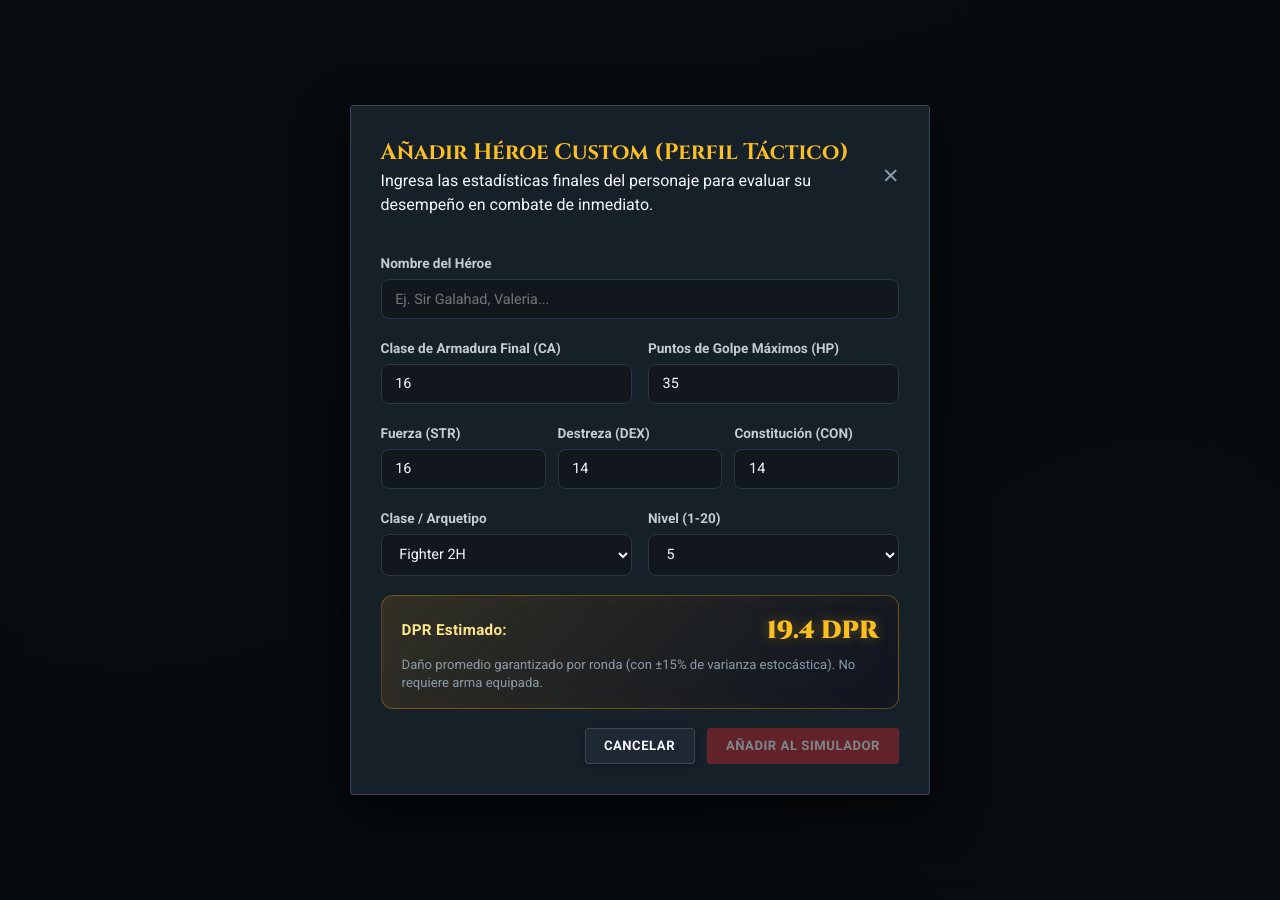
Test: CustomHeroModal Component › updates live Expected DPR when selecting a different archetype or level
Select "1" in the dropdown with id "hero-level-select" at (774, 555), box [648, 534, 899, 576]
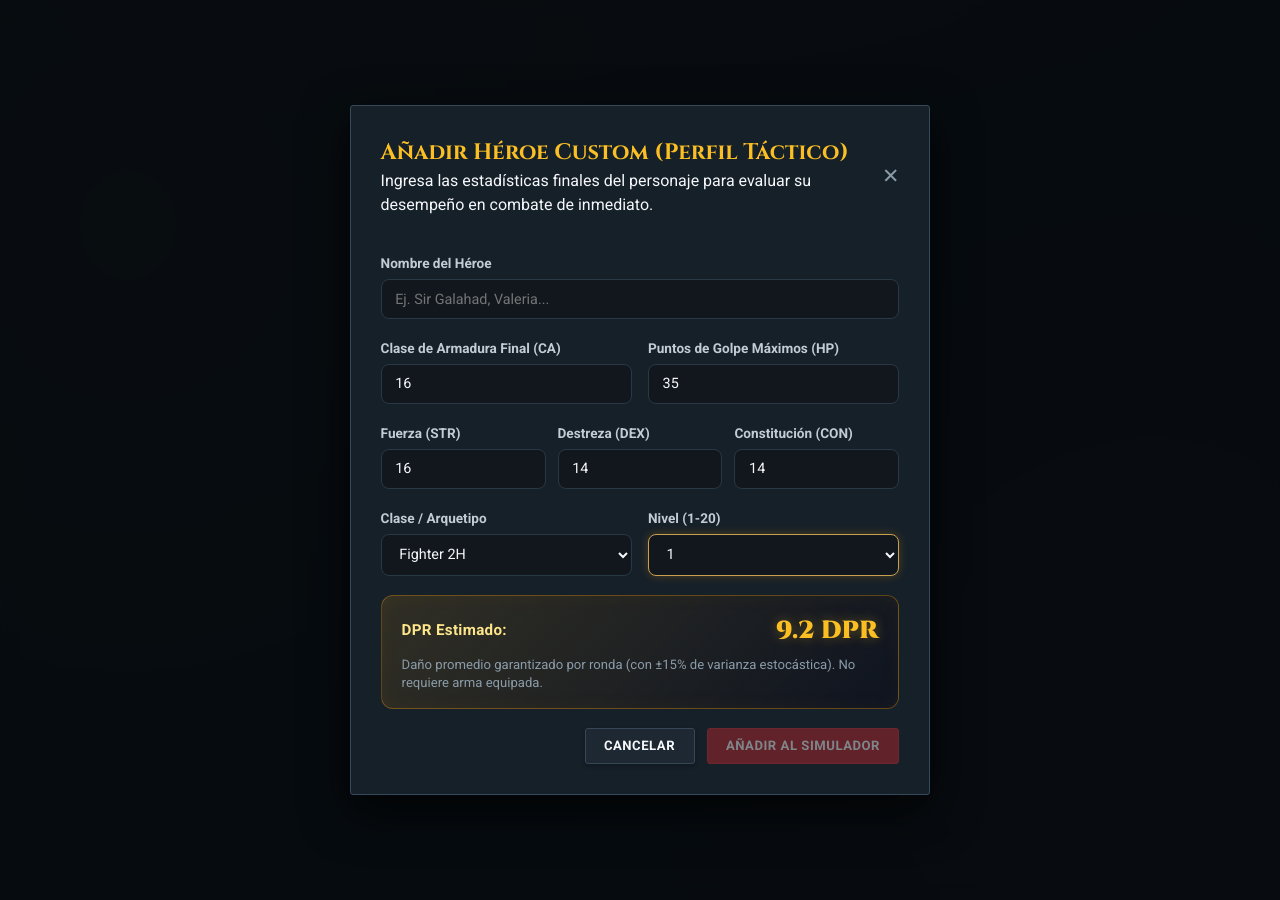
Check: the text "9.2 DPR" is shown, box [776, 612, 878, 649]
Select "Ranger Ranged" in the dropdown with id "hero-archetype-select" at (506, 555), box [381, 534, 632, 576]
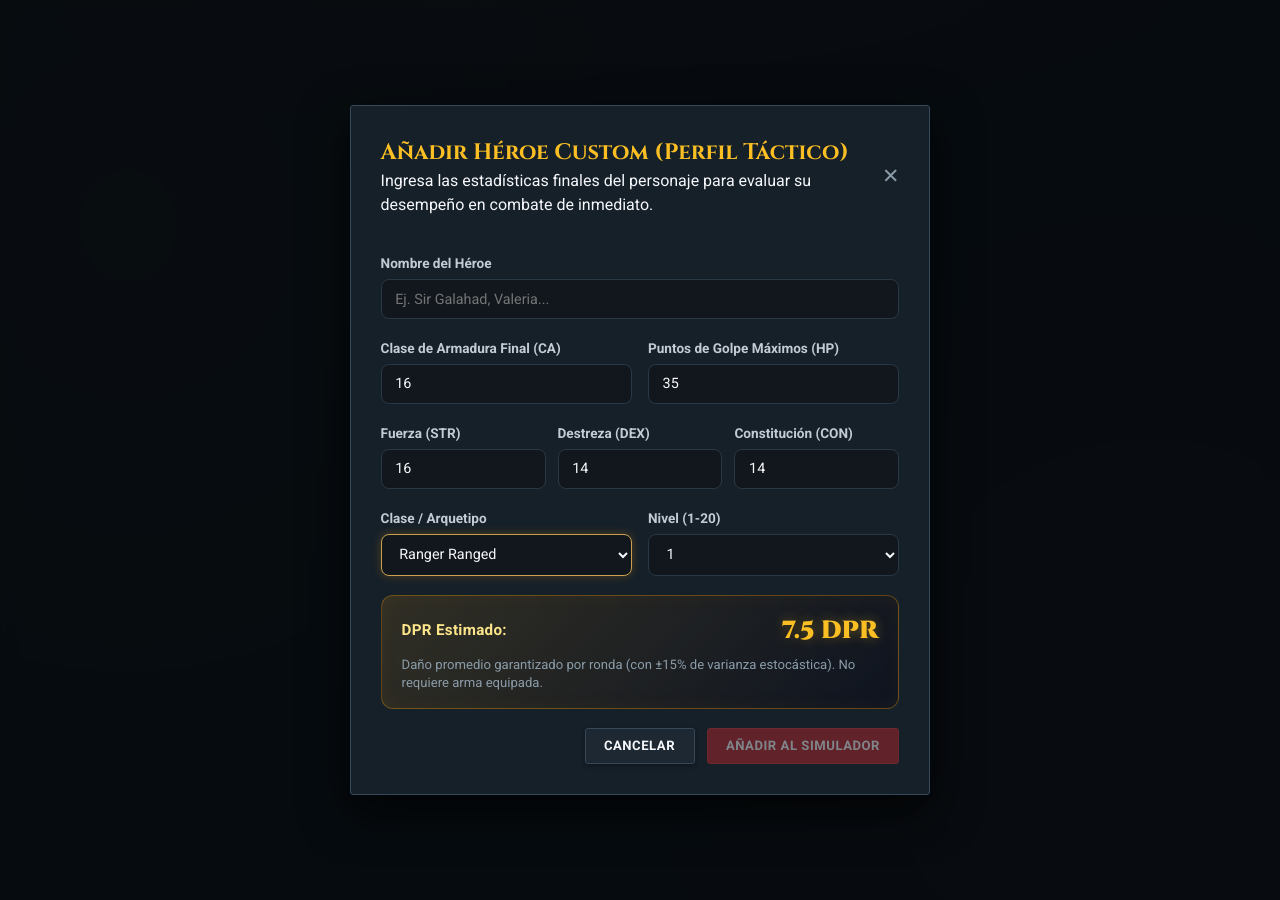
Check: the text "7.5 DPR" is shown, box [782, 612, 878, 649]
